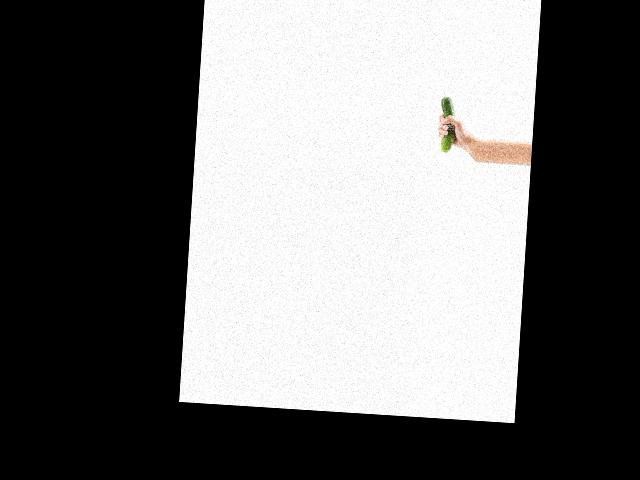cucumber: (437, 96, 457, 152)
